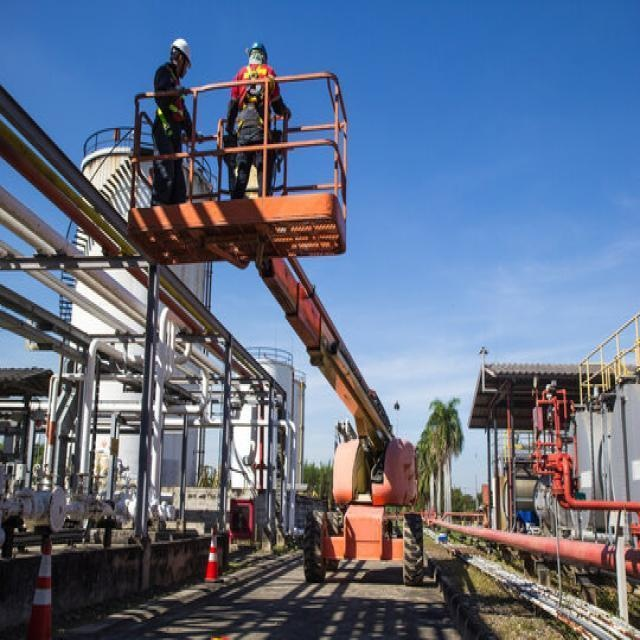Arnes_seguridad: (234, 65, 272, 142)
